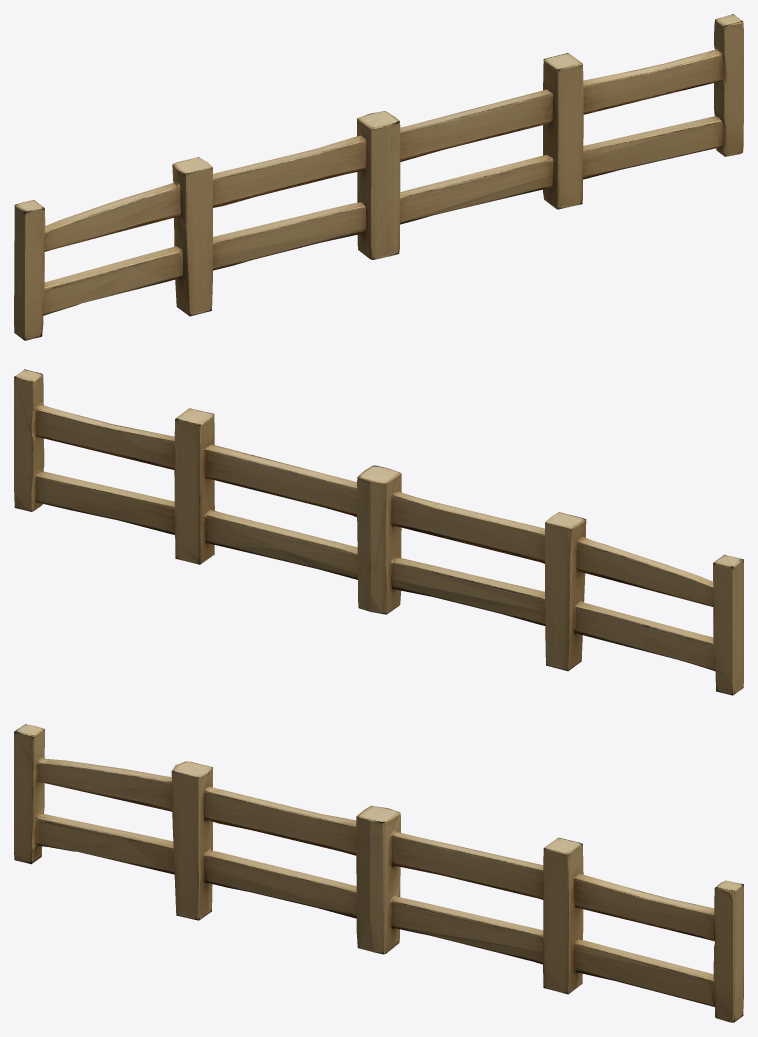
The model's file is wooden_fence.glb.
The picture shows the model from 3 angles, top to bottom: view 1: azimuth 30°, elevation 25°; view 2: azimuth 150°, elevation 25°; view 3: azimuth 330°, elevation 25°; orthographic projection.
Parts seen in each view (by area): view 1: world; view 2: world; view 3: world.
Boxes of the visible parts, <box> form: world: <box>14,14,743,340</box>; world: <box>14,369,743,695</box>; world: <box>14,724,743,1022</box>.
Bounding box in the file's own units: 0.9987 × 0.2098 × 0.0432.
Materials: 1 (1 with a texture image).
